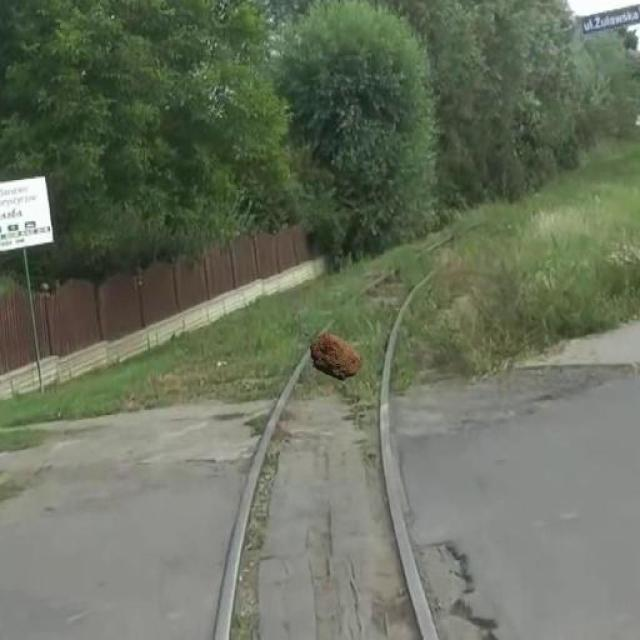Stone: (306, 330, 367, 387)
